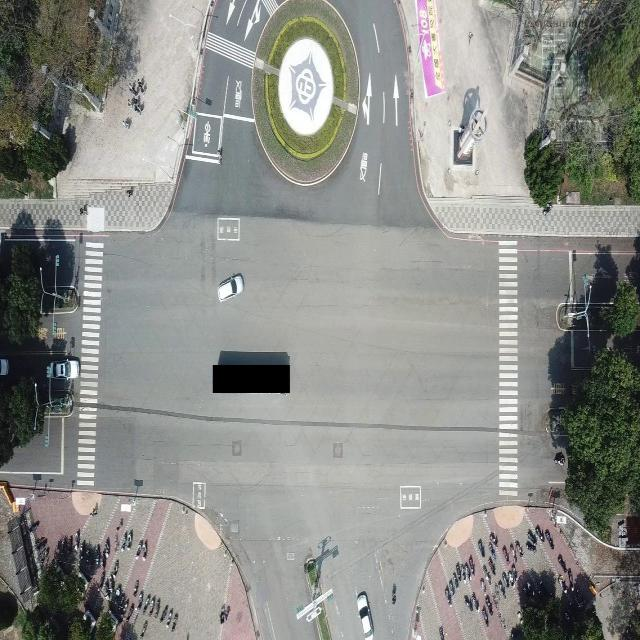bike: (391, 582, 396, 604)
car: (46, 357, 81, 382), (356, 591, 374, 639), (218, 272, 245, 303)
